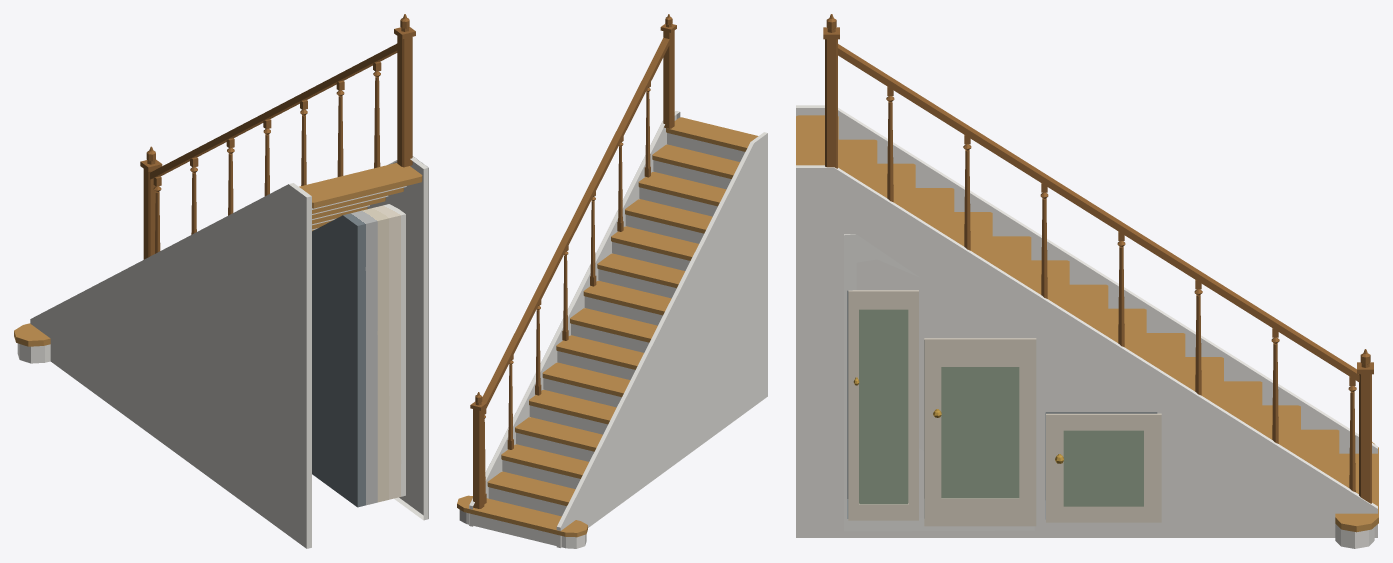
The model's file is Updated stairs.fbx.
3 renders of one model, left to right at view 1: azimuth 30°, elevation 25°; view 2: azimuth 150°, elevation 25°; view 3: azimuth 270°, elevation 25°, orthographic. The views are drawn at different scales.
Parts seen in each view (by area): view 1: Escalera; view 2: Escalera; view 3: Escalera, Puerta media, Puerta alta, Puerta baja.
Boxes of the visible parts, x1,y1,x2,y2 form: Escalera: (14,14,428,548); Escalera: (457,14,767,548); Escalera: (796,14,1378,548); Puerta media: (924,338,1036,526); Puerta alta: (848,290,918,520); Puerta baja: (1046,413,1161,522).
Size of the model in its own units: 140 by 387 by 393.
8 materials, 8 textured.
